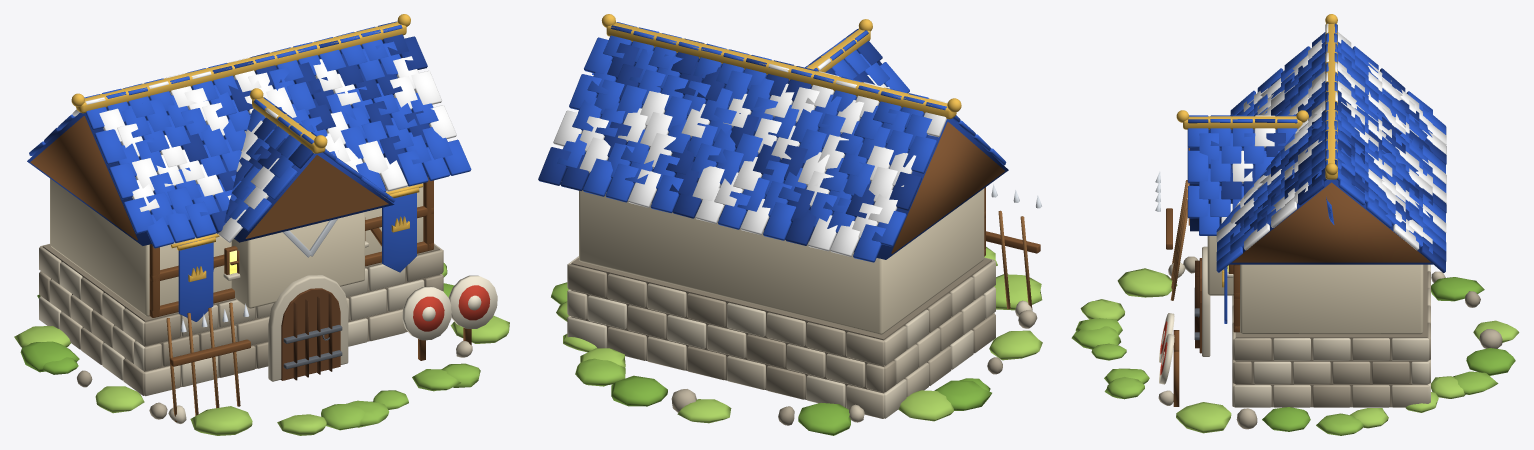
The model's file is b_barracks.glb.
3 renders of one model, left to right at view 1: azimuth 30°, elevation 25°; view 2: azimuth 150°, elevation 25°; view 3: azimuth 270°, elevation 25°, orthographic. The views are drawn at different scales.
Visible parts, largest first — view 1: root_team, root_matte#efe2c4, root_team_light, root_matte#7a4e2a, root_matte#d6ccb6, root_team_dark, root_matte#c9bea8, root_gold#f0bd4c, root_matte#a8d060, crossRoofGableEnd, root_matte#a99e8a, root_matte#b8ad98 (+14 smaller); view 2: root_team, root_matte#efe2c4, root_team_light, root_matte#c9bea8, root_team_dark, root_matte#b8ad98, root_matte#d6ccb6, root_matte#a99e8a, root_matte#7a4e2a, root_matte#a8d060, root_gold#f0bd4c, baseCore (+6 smaller); view 3: root_team, root_matte#efe2c4, root_matte#7a4e2a, root_team_light, root_team_dark, root_matte#d6ccb6, crossGable_team, root_matte#a8d060, root_matte#94c252, root_matte#c9bea8, root_matte#b8ad98, root_matte#7fb243 (+8 smaller).
Boxes of the visible parts, box(x1,y1,x2,y2) form: root_team: box(29, 25, 471, 321); root_matte#efe2c4: box(50, 178, 423, 316); root_team_light: box(72, 56, 456, 211); root_matte#7a4e2a: box(30, 116, 471, 366); root_matte#d6ccb6: box(39, 241, 424, 423); root_team_dark: box(27, 21, 444, 245); root_matte#c9bea8: box(39, 246, 472, 396); root_gold#f0bd4c: box(71, 14, 422, 281); root_matte#a8d060: box(14, 315, 509, 435); crossRoofGableEnd: box(245, 155, 388, 238); root_matte#a99e8a: box(39, 271, 443, 395); root_matte#b8ad98: box(40, 243, 443, 419); root_team: box(557, 22, 1006, 262); root_matte#efe2c4: box(579, 188, 984, 334); root_team_light: box(553, 64, 947, 256); root_matte#c9bea8: box(567, 260, 995, 422); root_team_dark: box(538, 25, 1008, 259); root_matte#b8ad98: box(607, 273, 1037, 412); root_matte#d6ccb6: box(567, 256, 1032, 418); root_matte#a99e8a: box(568, 257, 1002, 425); root_matte#7a4e2a: box(891, 122, 1040, 256); root_matte#a8d060: box(556, 247, 1042, 423); root_gold#f0bd4c: box(601, 14, 961, 119); baseCore: box(571, 257, 991, 407); root_team: box(1216, 23, 1446, 323); root_matte#efe2c4: box(1207, 236, 1423, 334); root_matte#7a4e2a: box(1166, 182, 1430, 406); root_team_light: box(1216, 23, 1446, 250); root_team_dark: box(1230, 68, 1446, 272); root_matte#d6ccb6: box(1168, 246, 1430, 407); crossGable_team: box(1187, 115, 1297, 235); root_matte#a8d060: box(1080, 268, 1519, 433); root_matte#94c252: box(1071, 318, 1498, 435); root_matte#c9bea8: box(1158, 271, 1445, 407); root_matte#b8ad98: box(1183, 256, 1502, 429); root_matte#7fb243: box(1262, 277, 1515, 431).
Bounding box in the file's own units: 3.16 × 2.02 × 3.18.
